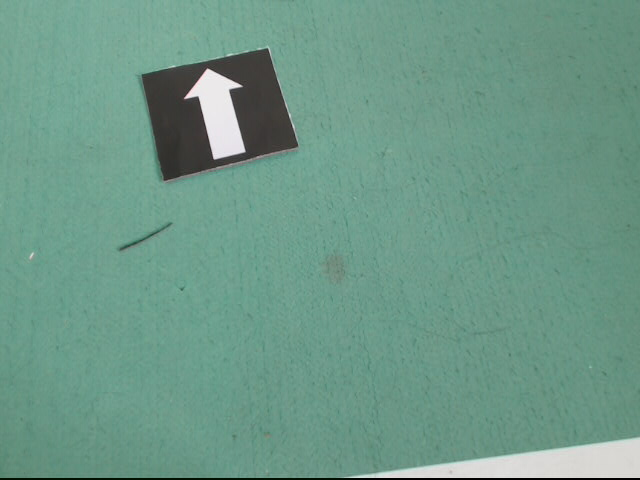straight: (142, 48, 297, 181)
